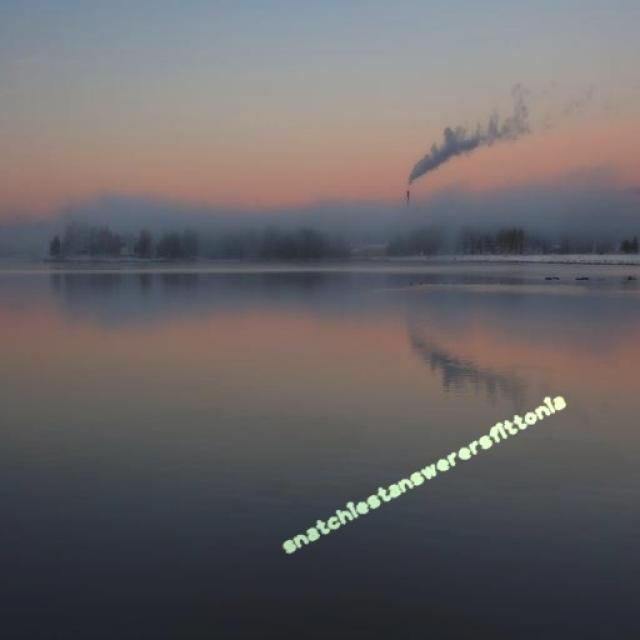watermark: (281, 388, 567, 556)
